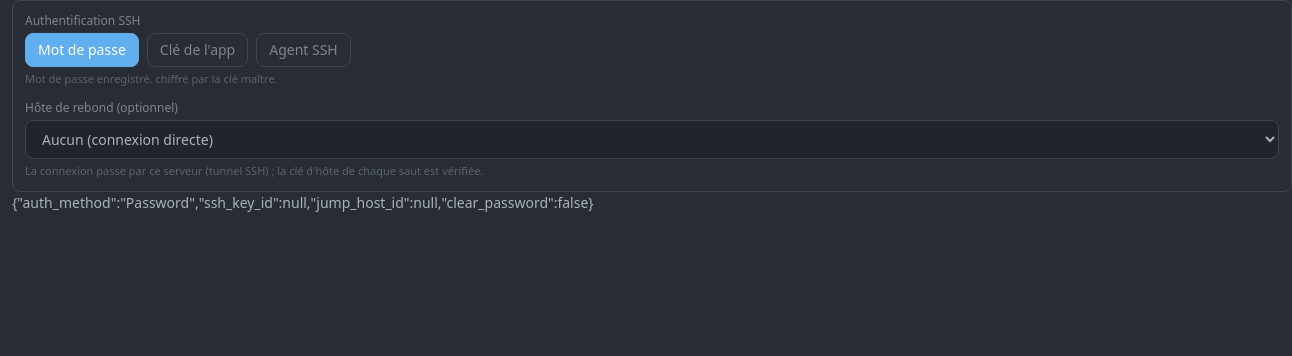
Test: ServerAuthFields › avec des clés : liste déroulante, puis plus d'avertissement une fois la clé choisie
Step 1. Click the radio button labelled "Clé de l'app" → {"x": 198, "y": 50}, box [147,33,248,67]
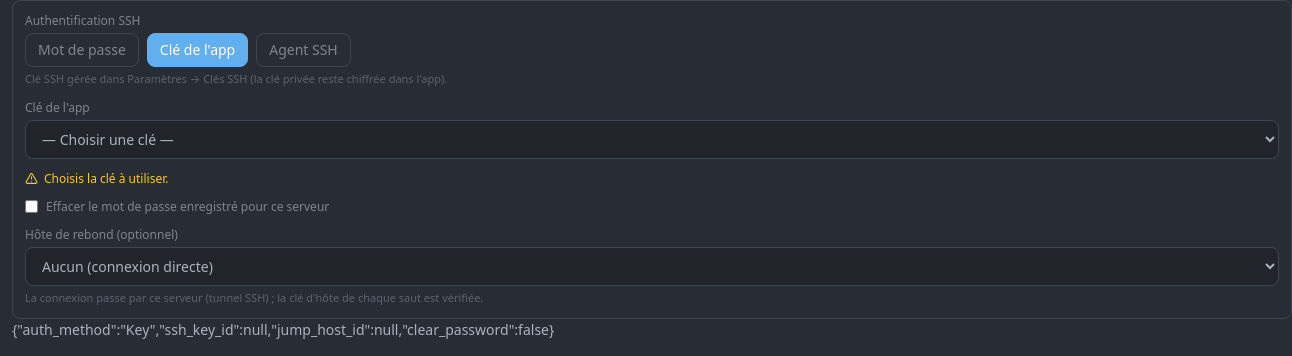
Result: the message shows "Choisis la clé" at [44,170,168,186]
Step 2. Select "Portable (ssh-ed25519, SHA256:0123456789ab…)" in the dropdown labelled "Clé de l'app" → {"x": 652, "y": 139}, box [25,120,1279,158]
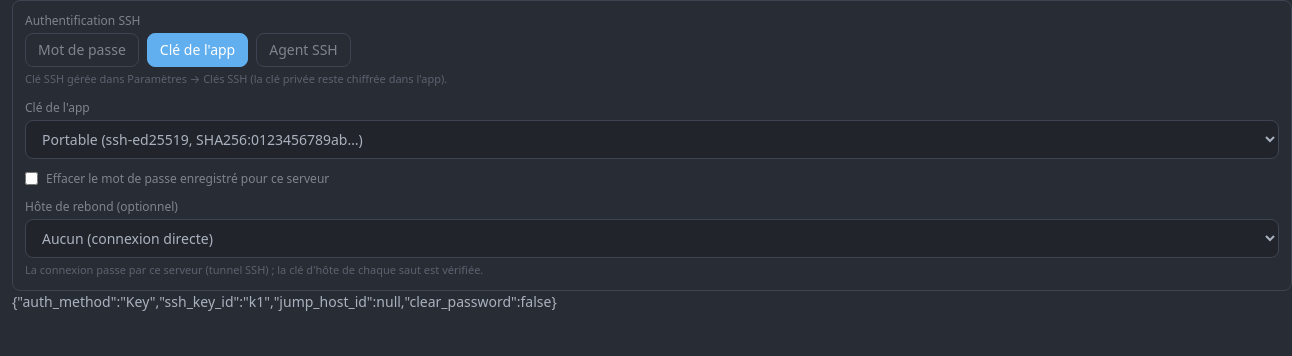
Result: the message "Choisis la clé à utiliser." is gone
# Serveur existant : proposition d'effacer le mot de passe
Step 3. Click the checkbox labelled "Effacer le mot de passe enregistré pour ce serveur" → {"x": 32, "y": 178}, box [25,172,38,185]
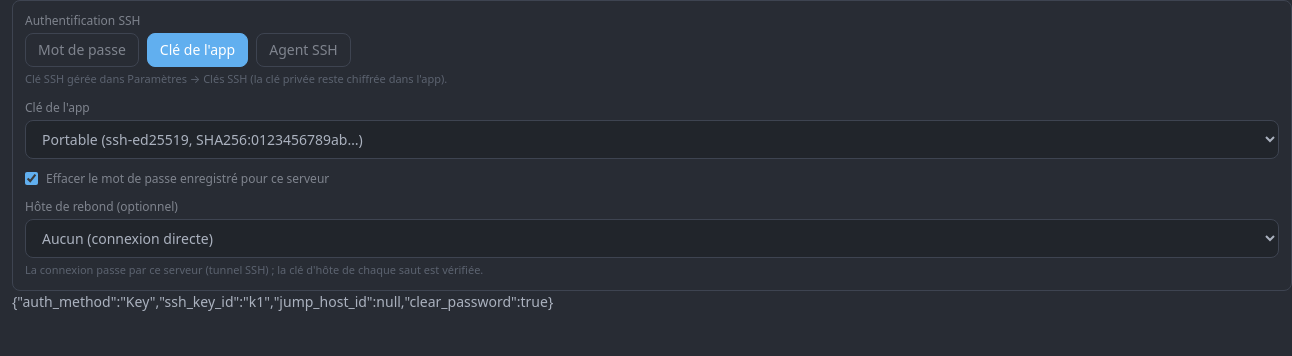
# Retour au mot de passe : la case disparaît et l'effacement est annulé
Step 4. Click the radio button labelled "Mot de passe" → {"x": 82, "y": 50}, box [25,33,139,67]
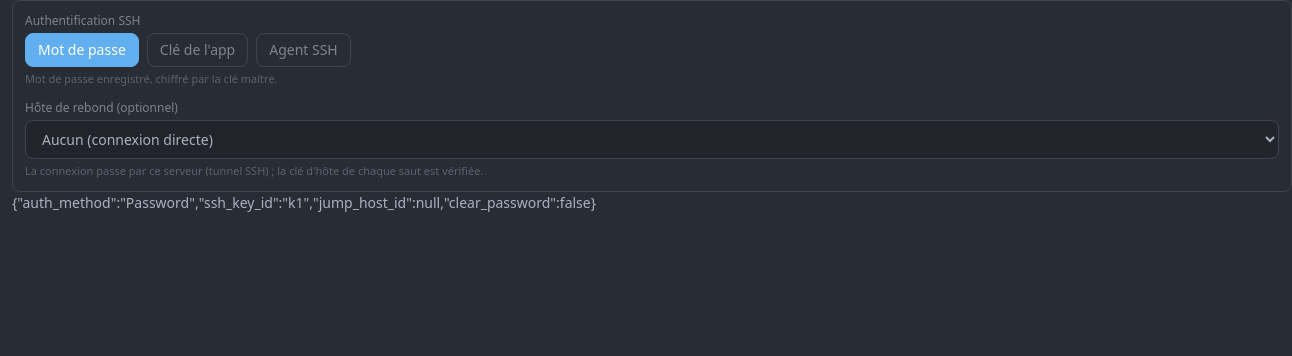
Result: the label labelled "Effacer le mot de passe enregistré pour ce serveur" is gone
